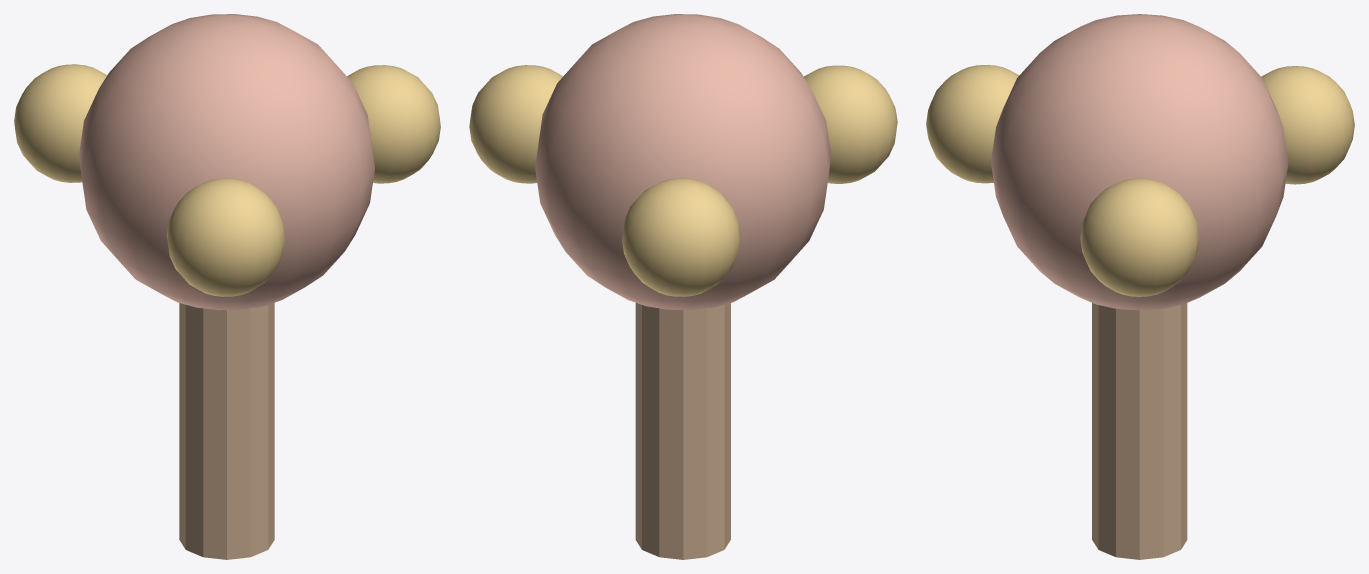
The model's file is baby_rattle.glb.
The picture shows the model from 3 angles, left to right: view 1: azimuth 30°, elevation 25°; view 2: azimuth 150°, elevation 25°; view 3: azimuth 270°, elevation 25°; orthographic projection.
Visible parts, largest first — view 1: Head, Handle, Bead.001, Bead, Bead.002; view 2: Head, Handle, Bead.002, Bead.001, Bead; view 3: Head, Handle, Bead, Bead.002, Bead.001.
Part boxes in pixels (left/top/right/bottom): Head: left=79, top=14, right=374, bottom=310; Handle: left=179, top=302, right=274, bottom=559; Bead.001: left=167, top=178, right=285, bottom=296; Bead: left=347, top=65, right=440, bottom=183; Bead.002: left=14, top=64, right=107, bottom=182; Head: left=535, top=14, right=831, bottom=310; Handle: left=635, top=303, right=730, bottom=559; Bead.002: left=622, top=178, right=740, bottom=296; Bead.001: left=804, top=65, right=897, bottom=183; Bead: left=469, top=65, right=562, bottom=183; Head: left=991, top=14, right=1288, bottom=310; Handle: left=1092, top=303, right=1187, bottom=559; Bead: left=1080, top=178, right=1199, bottom=296; Bead.002: left=1261, top=66, right=1354, bottom=184; Bead.001: left=926, top=65, right=1018, bottom=183.
Size of the model in its own units: 0.1303 by 0.19 by 0.1441.
